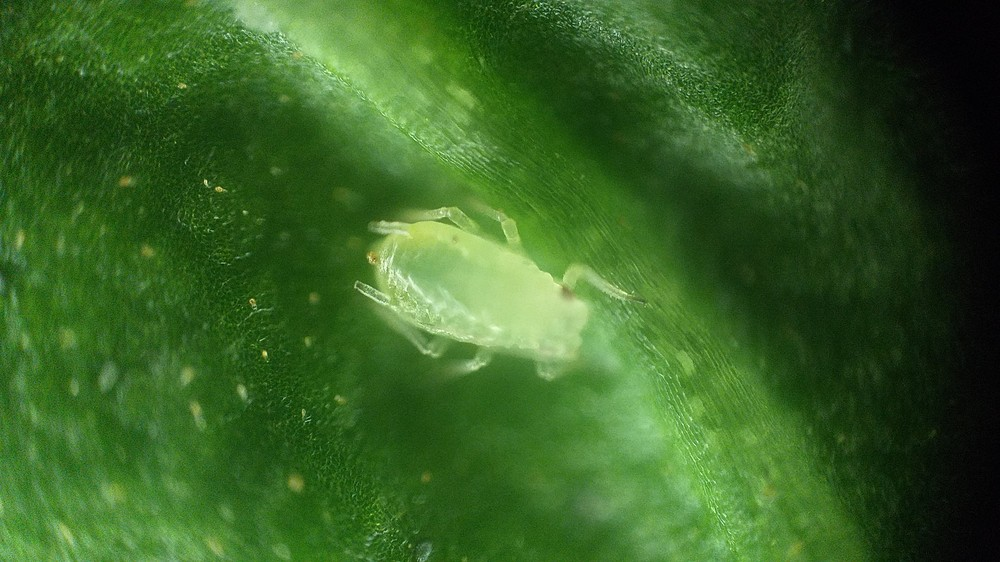Pulgon: (346, 185, 679, 421)
